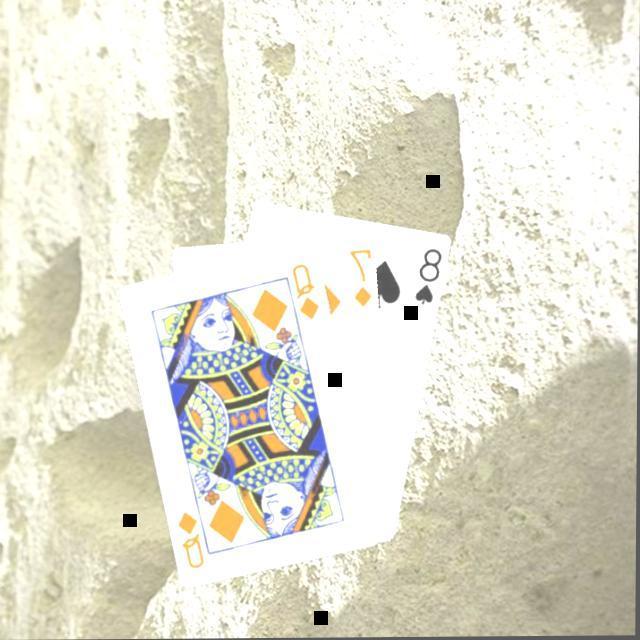7D: (346, 248, 374, 312)
8S: (412, 247, 444, 310)
QD: (174, 509, 208, 574), (288, 262, 323, 324)
